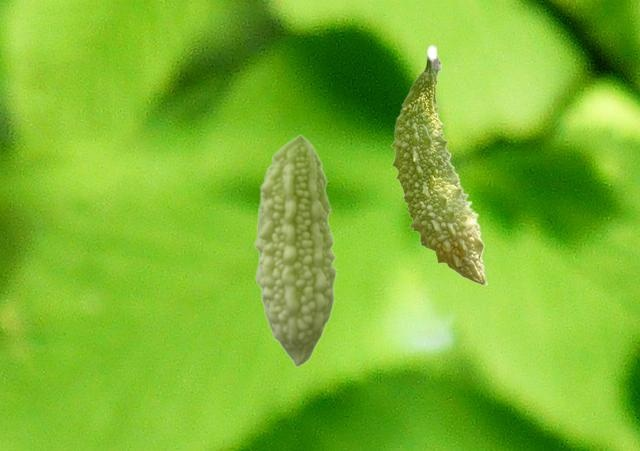ampalaya: (389, 44, 488, 286), (253, 134, 337, 369)
